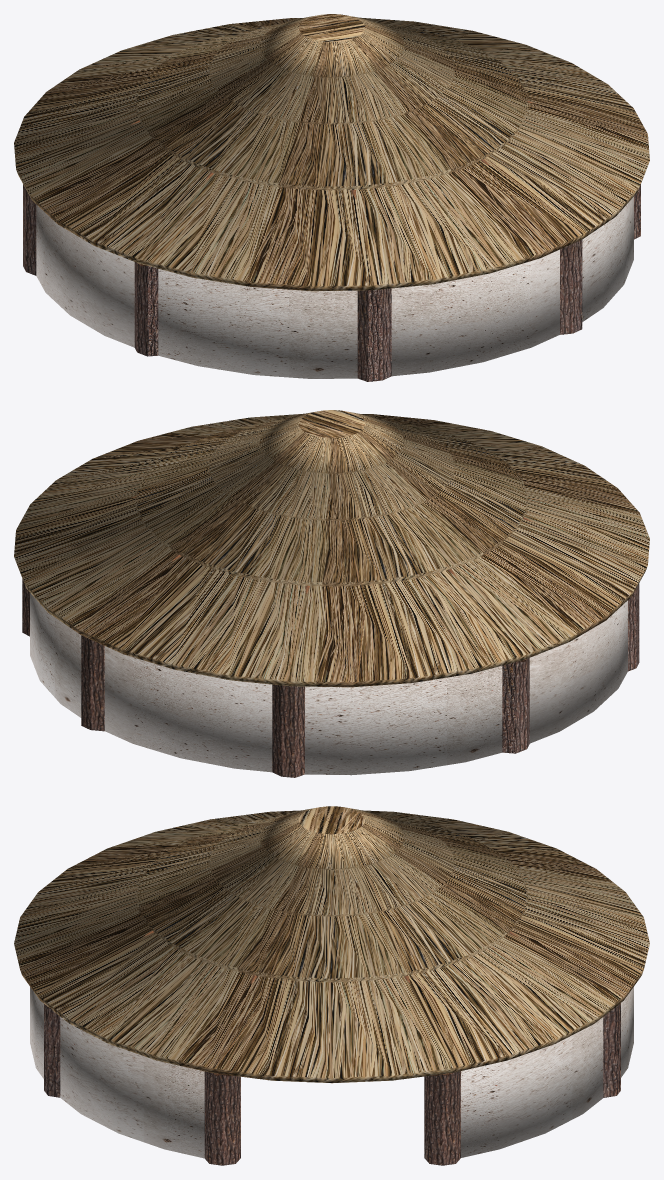
The model's file is GaulicRoundhouseBig.fbx.
3 renders of one model, top to bottom at view 1: azimuth 30°, elevation 25°; view 2: azimuth 150°, elevation 25°; view 3: azimuth 270°, elevation 25°, orthographic.
Parts seen in each view (by area): view 1: GaulishRoundhouseBigNoDoor; view 2: GaulishRoundhouseBigNoDoor; view 3: GaulishRoundhouseBigNoDoor.
Boxes of the visible parts, x1,y1,x2,y2 form: GaulishRoundhouseBigNoDoor: (14, 14, 649, 381); GaulishRoundhouseBigNoDoor: (14, 410, 649, 777); GaulishRoundhouseBigNoDoor: (14, 806, 649, 1165).
Bounding box in the file's own units: 1896 × 736 × 1896.
